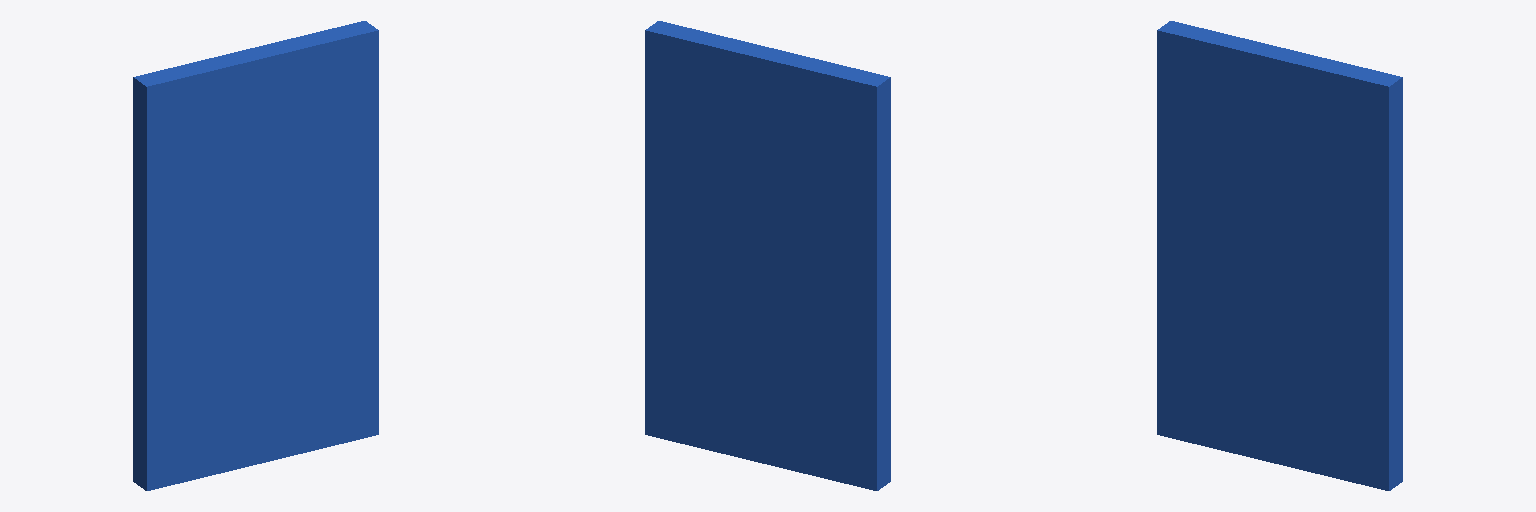
URDF robot description (Domino_21):
<robot name="Domino_21" version="1.0">
  <link name="Domino_21_link">
    <collision name="Cube.020_collision">
      <origin rpy="0.00000 0.00000 0.00000" xyz="-1.10572 0.56459 0.25000"/>
      <geometry>
        <box size="0.30000 0.03000 0.50000"/>
      </geometry>
    </collision>
    <inertial>
      <inertia ixx="0.00209" ixy="-0.00000" ixz="-0.00000" iyy="0.00283" iyz="0.00000" izz="0.00076"/>
      <origin rpy="0.00000 0.00000 0.00000" xyz="-1.10572 0.56459 0.25000"/>
      <mass value="0.10000"/>
    </inertial>
    <visual name="Cube.020">
      <material name="turnarrow"/>
      <origin rpy="0.00000 0.00000 0.00000" xyz="-1.10572 0.56459 0.25000"/>
      <geometry>
        <mesh filename="../meshes/obj/Cube.024.obj" scale="0.96309 0.86937 1.13774"/>
      </geometry>
    </visual>
  </link>
  <material name="turnarrow">
    <color rgba="0.23137 0.44706 0.80000 1.00000"/>
  </material>
</robot>

--- Render facts (derived) ---
Views: 3 orthographic renders of the robot side by side, from view 1: azimuth 30°, elevation 25°; view 2: azimuth 150°, elevation 25°; view 3: azimuth 330°, elevation 25°.
Robot: Domino_21 — 1 links, 0 joints (none); root link Domino_21_link; default pose: every joint at zero.
Visible links, largest first — view 1: Domino_21_link; view 2: Domino_21_link; view 3: Domino_21_link.
Boxes of the visible links, x1,y1,x2,y2 form: Domino_21_link: (133, 21, 378, 490); Domino_21_link: (645, 21, 890, 490); Domino_21_link: (1157, 21, 1402, 490).
Bounding box of the posed robot: 0.3 × 0.03 × 0.5 m (x, y, z).
1 mesh visuals loaded from 1 distinct referenced files (1 OBJ).